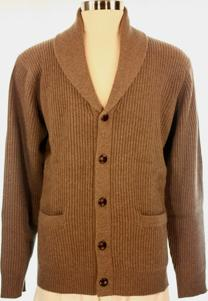S_cardigan sweater: (1, 13, 204, 286)
